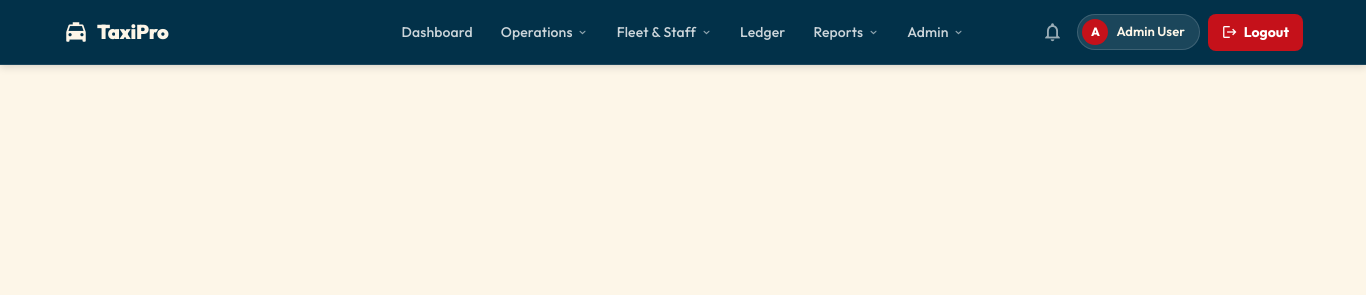
opens Admin dropdown and shows admin links
Click the button "Admin". click: coordinates (936, 32)
box: top-left (895, 14), bottom-right (976, 50)
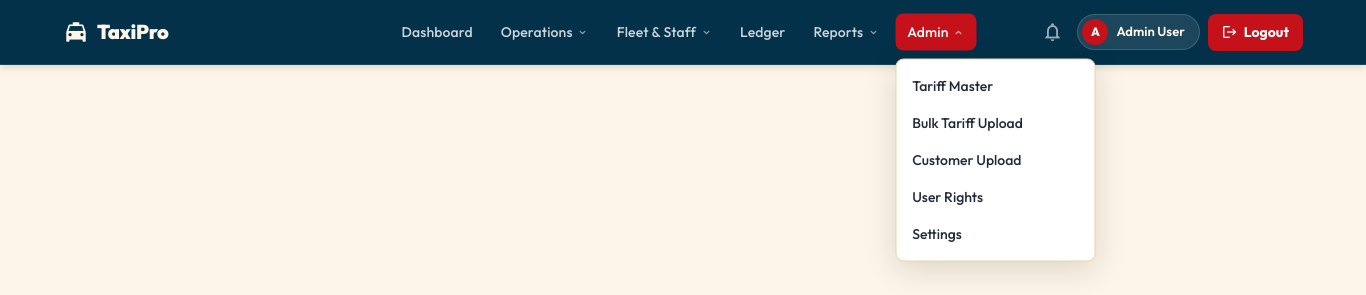
Result: the link "Tariff Master" is shown at top-left (912, 76), bottom-right (993, 94)
Result: the link "User Rights" is shown at top-left (912, 188), bottom-right (983, 206)
Result: the link "Settings" is shown at top-left (912, 224), bottom-right (962, 242)
